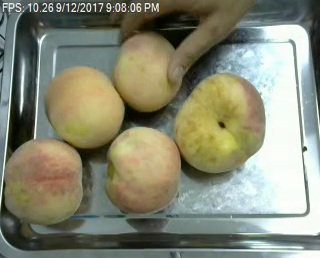Peach: (174, 73, 266, 172), (3, 136, 84, 226), (103, 125, 180, 213), (46, 65, 123, 149), (111, 30, 189, 110)
